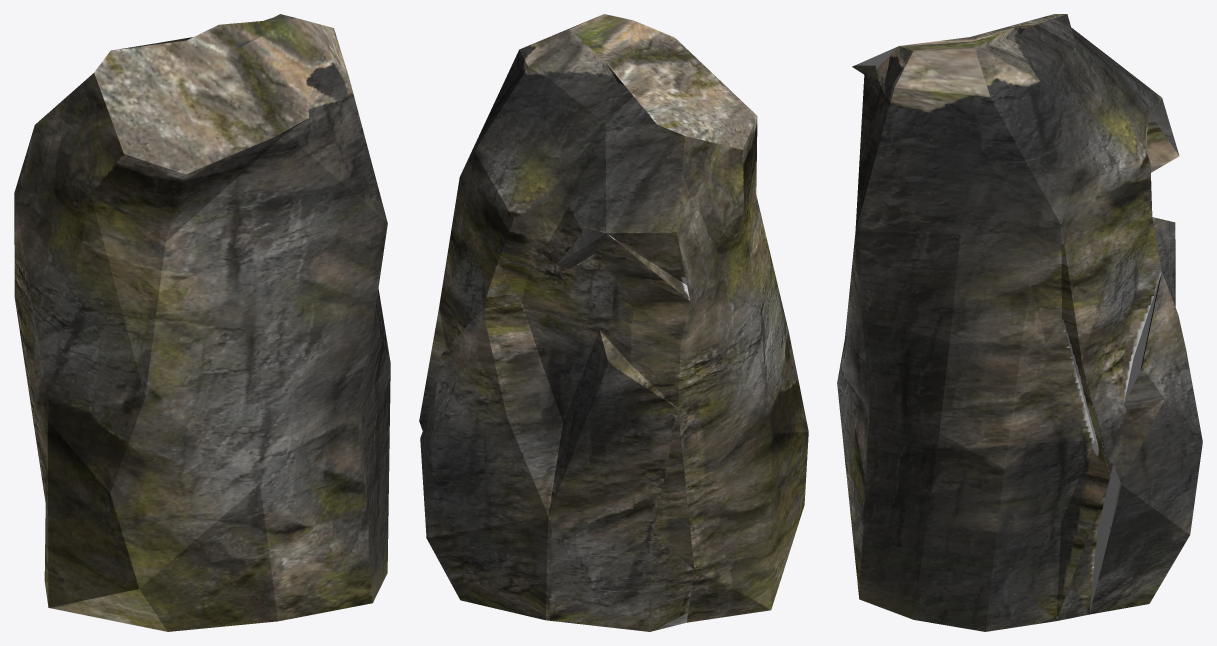
The model's file is bigRock.glb.
3 renders of one model, left to right at view 1: azimuth 30°, elevation 25°; view 2: azimuth 150°, elevation 25°; view 3: azimuth 270°, elevation 25°, orthographic. The views are drawn at different scales.
Parts seen in each view (by area): view 1: rock3; view 2: rock3; view 3: rock3.
Part boxes in pixels (x1,y1,x2,y2): rock3: [14, 14, 390, 631]; rock3: [419, 14, 808, 631]; rock3: [837, 14, 1202, 631].
Bounding box in the file's own units: 8.1 × 12.89 × 7.88.
1 material, 1 textured.
